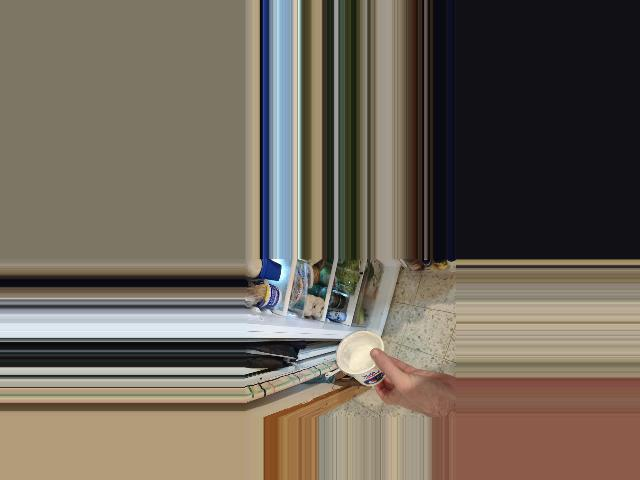cotage: (333, 332, 390, 390)
